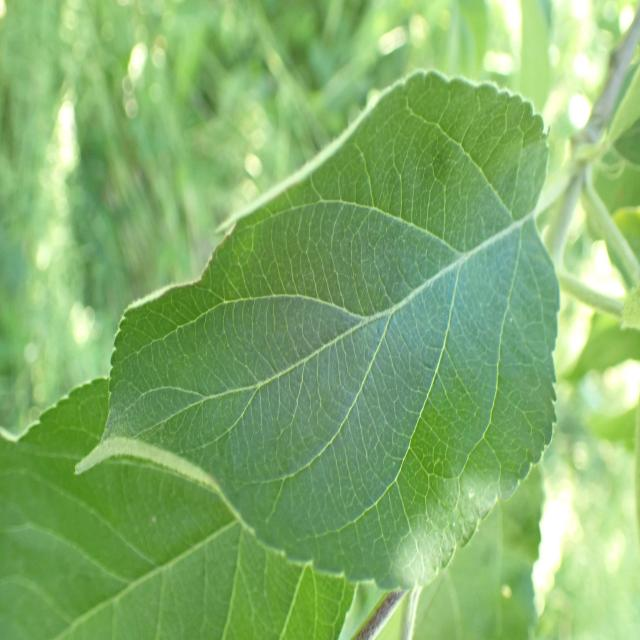healthy: (76, 68, 560, 591), (0, 377, 359, 640)
